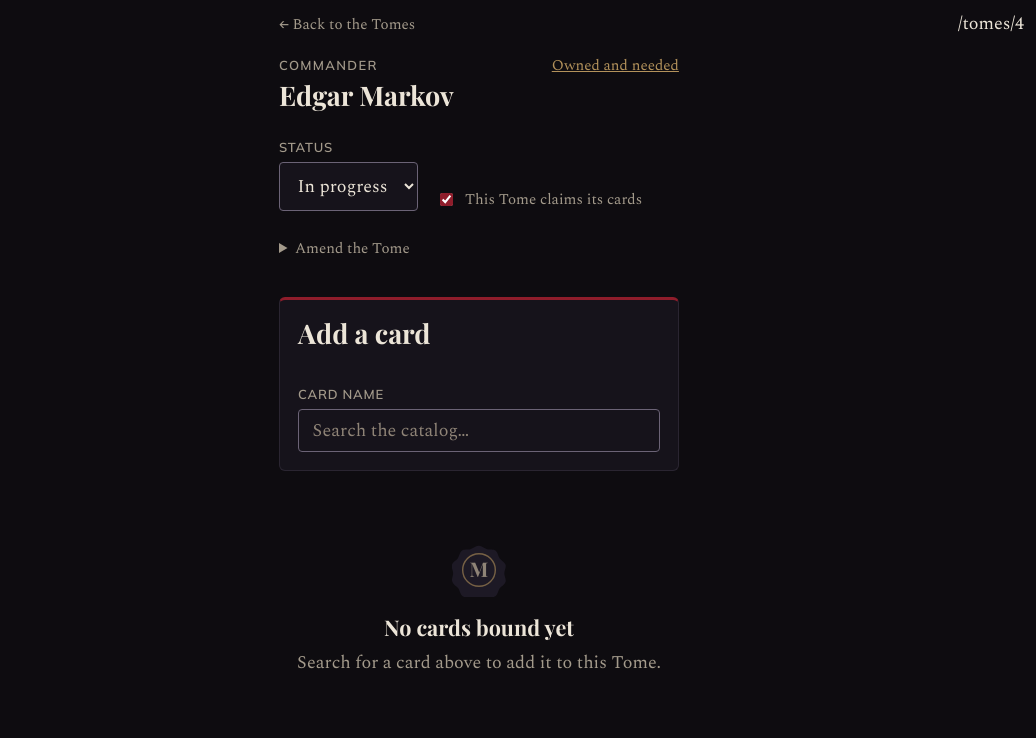
Test: TomeEditorPage › amends the name, format, notes, and changelog
Click the heading "Amend the Tome" at (352, 248), box [295, 237, 410, 260]
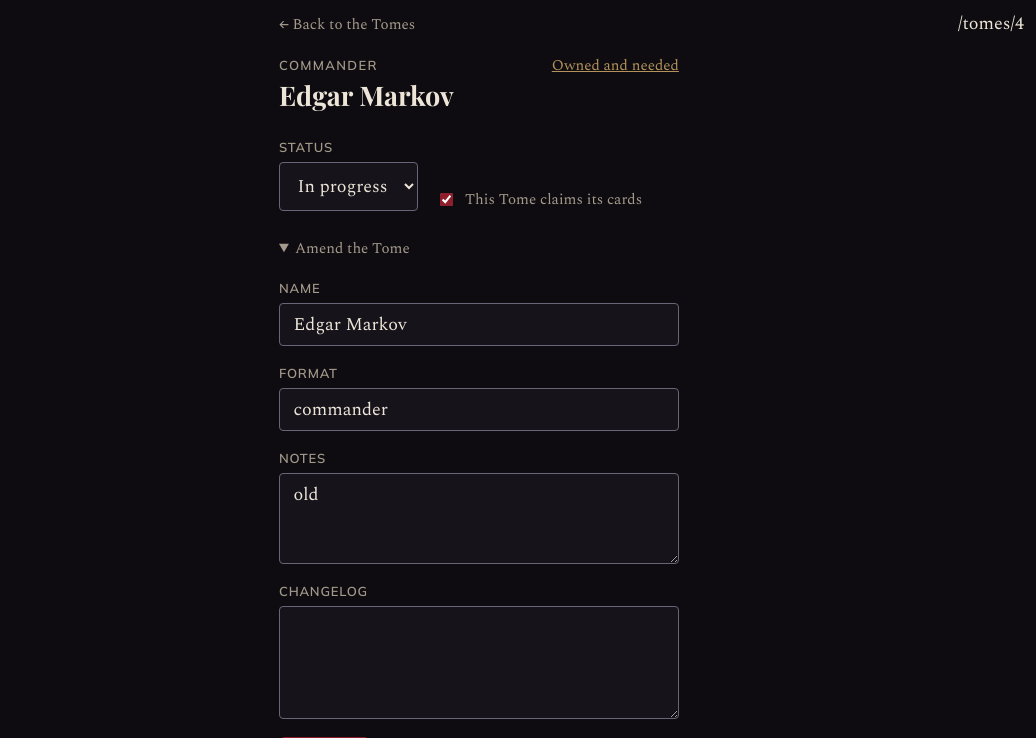
Replace the text in the field labelled "Name" with "Edgar, Vampire Patriarch" at (479, 324), box [279, 302, 679, 346]
Clear the field labelled "Format" at (479, 410), box [279, 388, 679, 431]
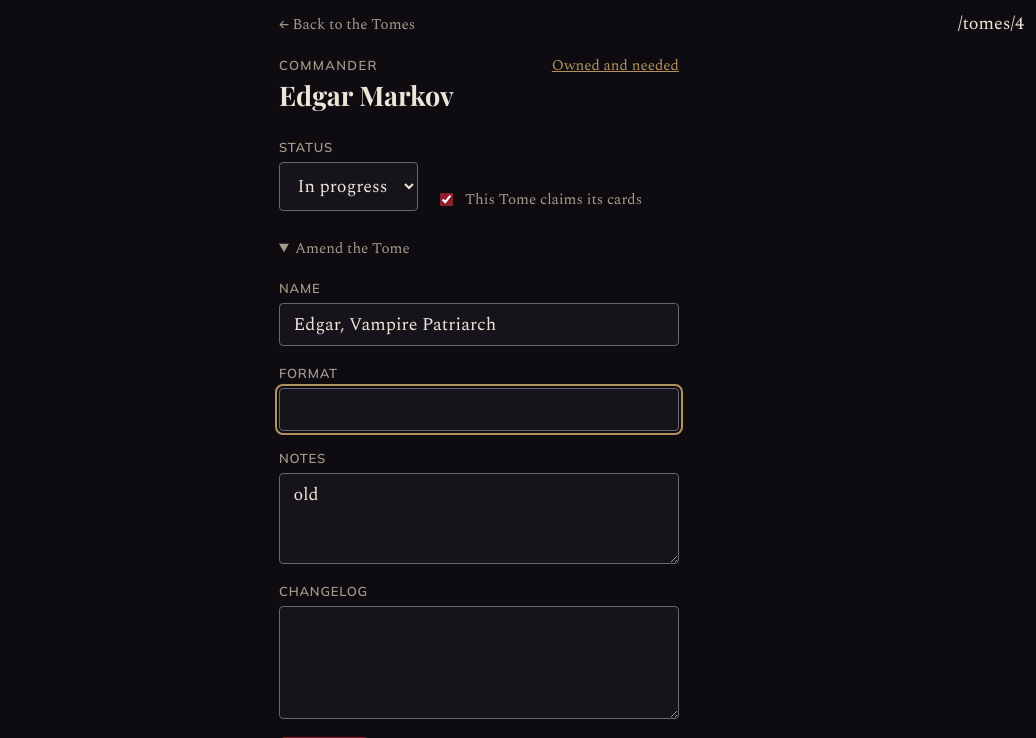
Clear the text box labelled "Notes" at (479, 518), box [279, 473, 679, 564]
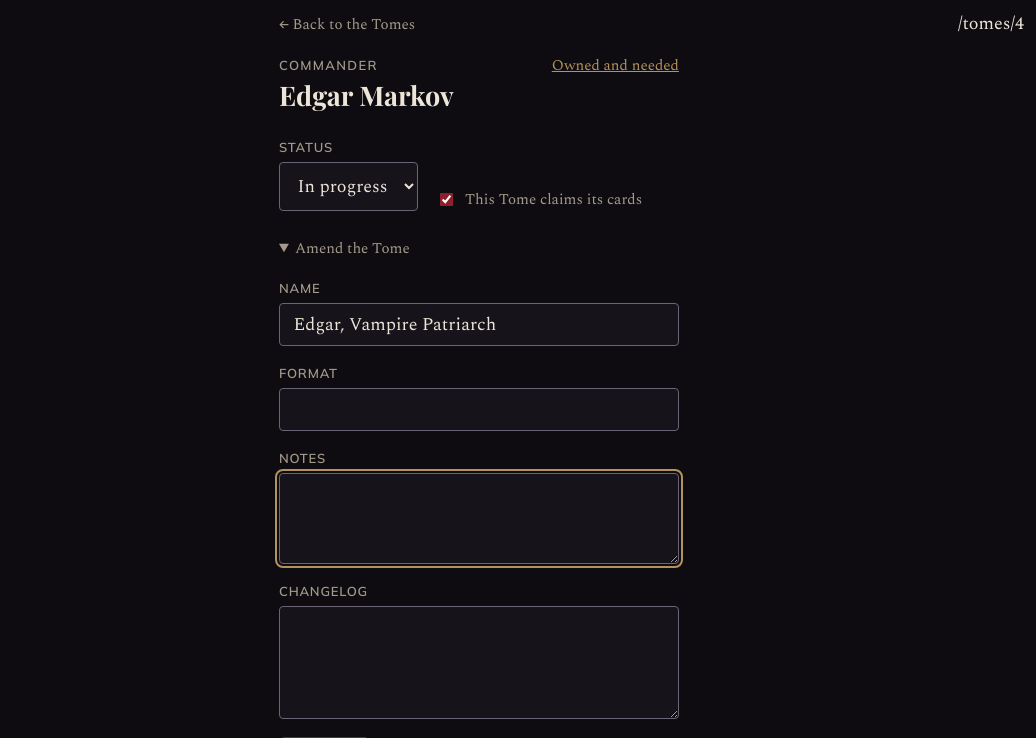
Type "+1 Bolt" into the text box labelled "Changelog" at (479, 662), box [279, 606, 679, 719]
(page scrolled)
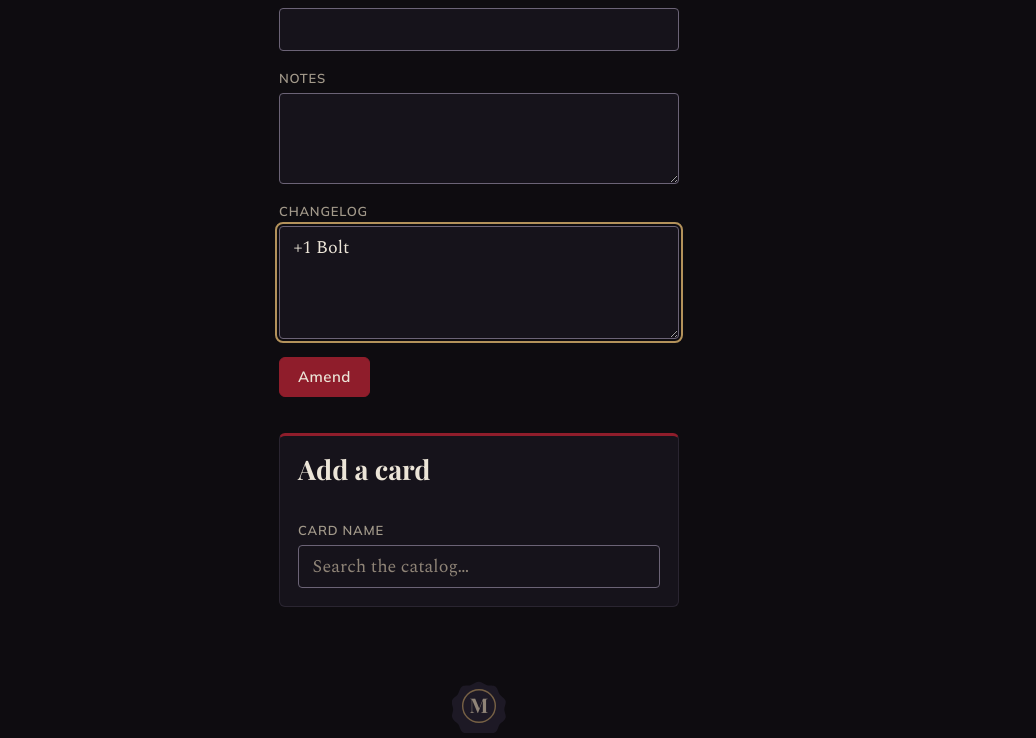
Click the button "Amend" at (324, 377), box [279, 357, 370, 397]
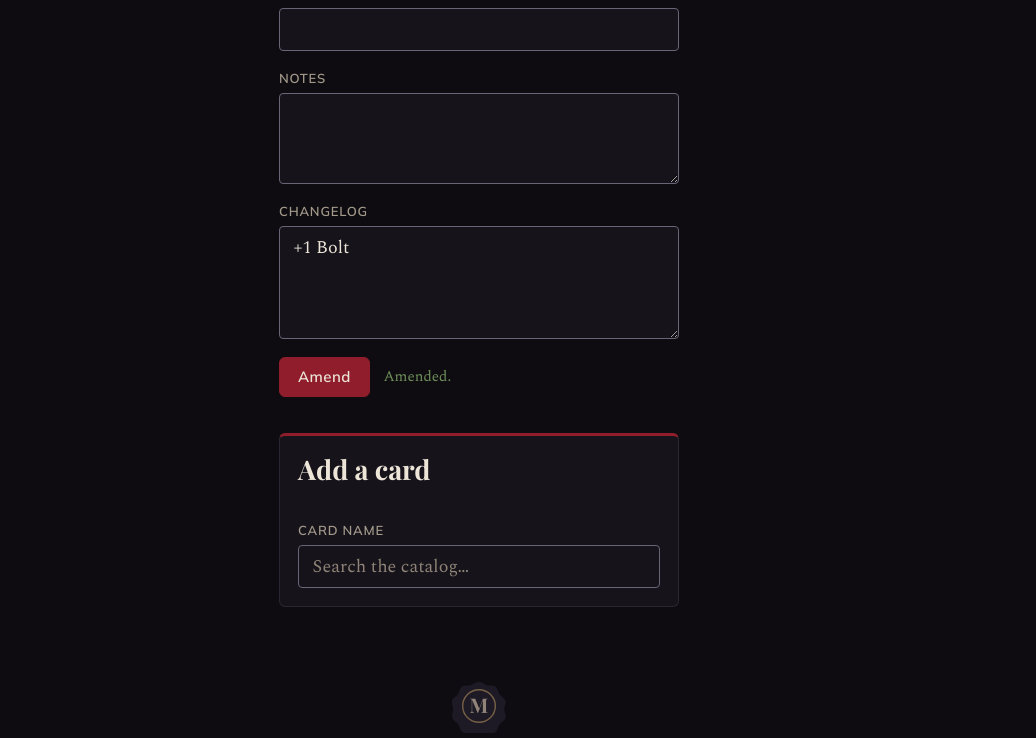
Check: the text "Amended." is shown, box [383, 367, 451, 387]
Type "x" into the text box labelled "Notes" at (479, 138), box [279, 93, 679, 184]
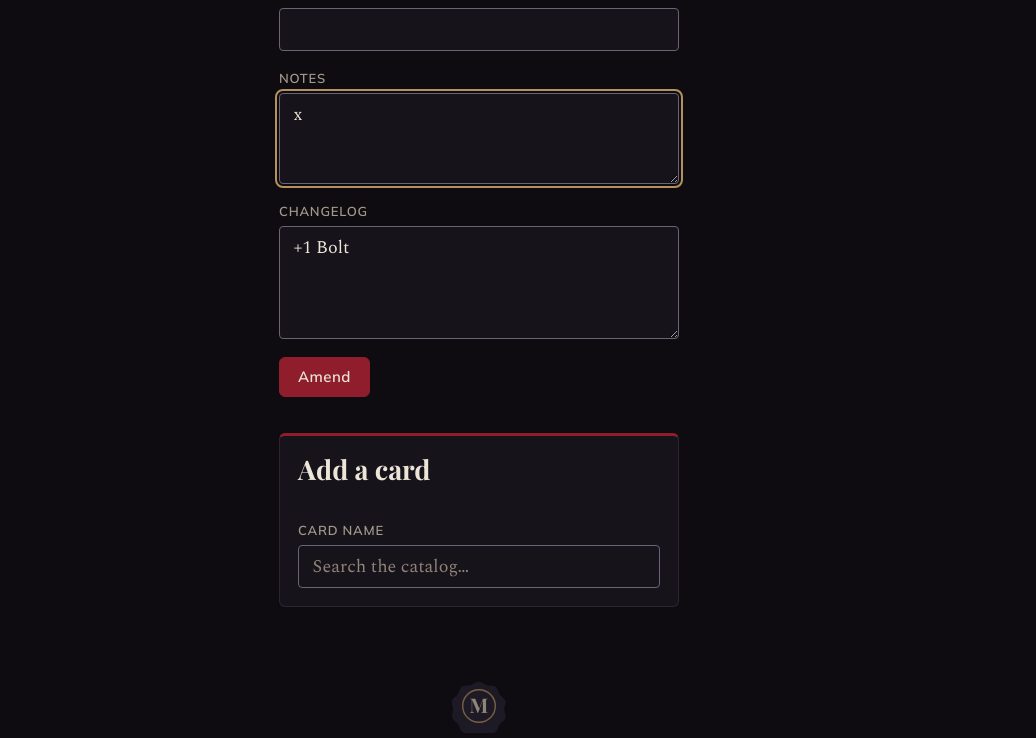
Check: the text "Amended." is gone
